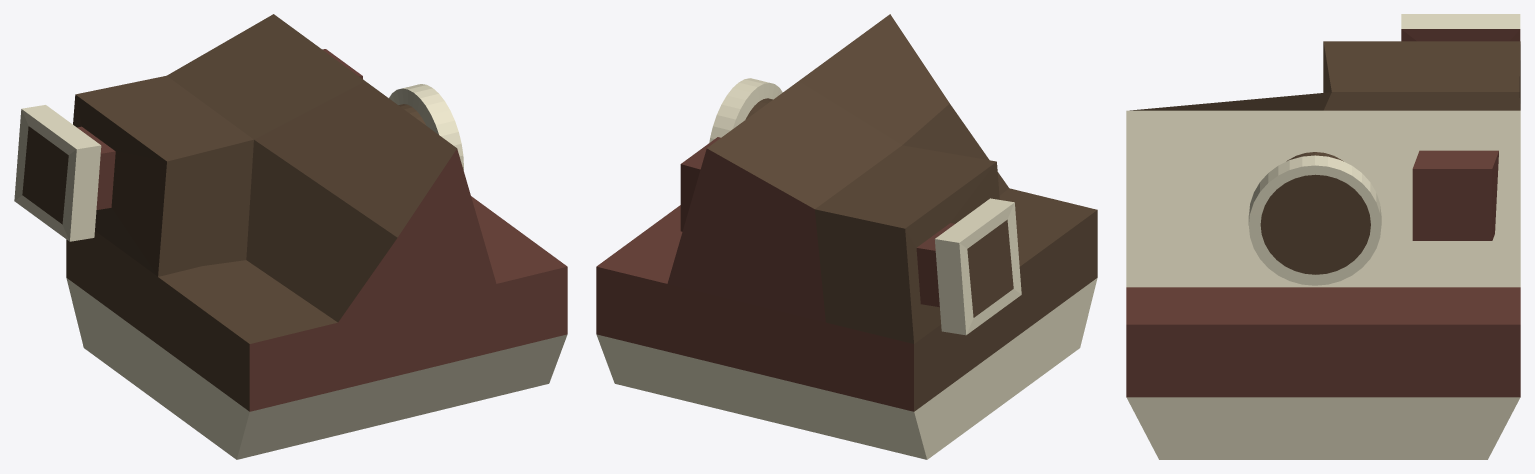
File: camera.fbx
3 views of the same model, side by side, from view 1: azimuth 30°, elevation 25°; view 2: azimuth 150°, elevation 25°; view 3: azimuth 270°, elevation 25° (orthographic). The views are drawn at different scales.
Visible parts, largest first — view 1: Cube; view 2: Cube; view 3: Cube.
Boxes of the visible parts, x1,y1,x2,y2 form: Cube: (14, 14, 567, 459); Cube: (596, 14, 1097, 459); Cube: (1126, 14, 1520, 459).
Bounding box in the file's own units: 78.96 × 55.65 × 67.86.
